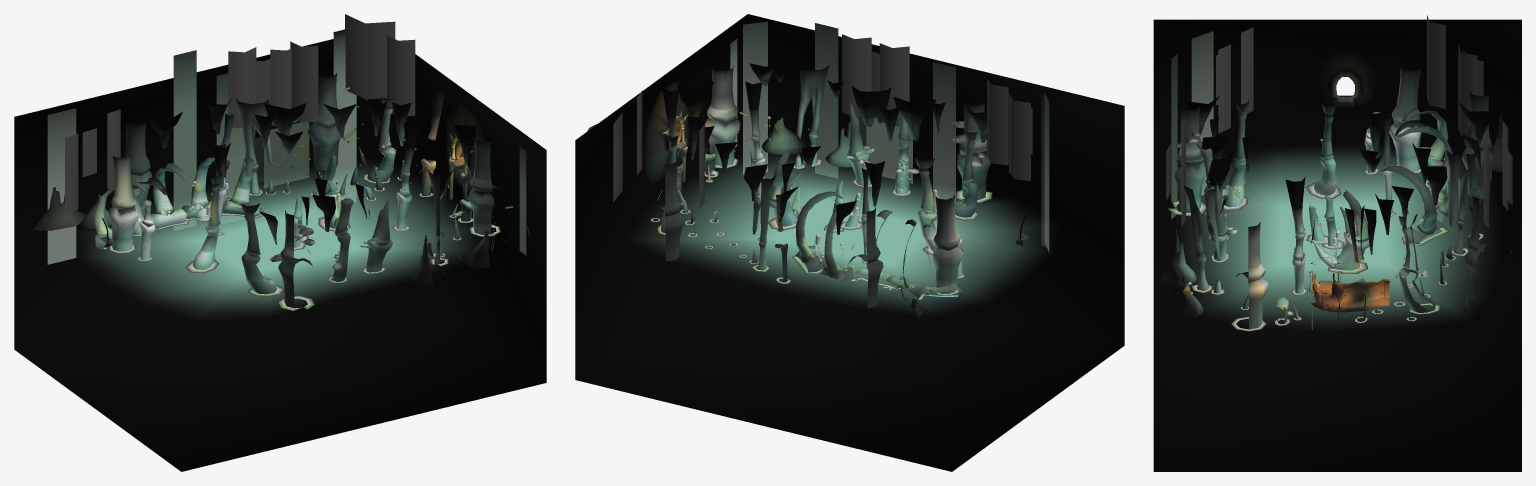
The model's file is 05CavernA.gltf.
The picture shows the model from 3 angles, left to right: view 1: azimuth 30°, elevation 25°; view 2: azimuth 150°, elevation 25°; view 3: azimuth 270°, elevation 25°; orthographic projection. The views are drawn at different scales.
Parts seen in each view (by area): view 1: stg040_o17_Mesh_0000, stg040_p17_Mesh_0002, stg040_w17_Mesh_0000, stg040_o17_Mesh_0001, stg040_o17_Mesh_0005, stg040_a17_Mesh_0000, stg040_o17_Mesh_0004, stg040_ripple_k_17_Mesh_0000, stg040_o17_Mesh_0008, stg040_o17_Mesh_0003; view 2: stg040_o17_Mesh_0000, stg040_w17_Mesh_0000, stg040_p17_Mesh_0002, stg040_o17_Mesh_0001, stg040_o17_Mesh_0005, stg040_a17_Mesh_0000, stg040_o17_Mesh_0004, stg040_o17_Mesh_0008, stg040_ripple_k_17_Mesh_0000, stg040_o17_Mesh_0007; view 3: stg040_o17_Mesh_0000, stg040_w17_Mesh_0000, stg040_o17_Mesh_0001, stg040_p17_Mesh_0002, stg040_o17_Mesh_0005, stg040_o17_Mesh_0008, stg040_o17_Mesh_0004, stg040_a17_Mesh_0000, stg040_ripple_k_17_Mesh_0000, stg040_o17_Mesh_0009, stg040_p17_Mesh_0001, stg040_o17_Mesh_0003.
Boxes of the visible parts, x1,y1,x2,y2 form: stg040_o17_Mesh_0000: (14,39,546,471); stg040_p17_Mesh_0002: (47,14,526,264); stg040_w17_Mesh_0000: (91,166,472,312); stg040_o17_Mesh_0001: (94,72,498,299); stg040_o17_Mesh_0005: (33,98,490,284); stg040_a17_Mesh_0000: (112,132,492,300); stg040_o17_Mesh_0004: (112,143,492,308); stg040_ripple_k_17_Mesh_0000: (103,174,500,311); stg040_o17_Mesh_0008: (97,101,491,248); stg040_o17_Mesh_0003: (285,148,459,239); stg040_o17_Mesh_0000: (575,14,1124,471); stg040_w17_Mesh_0000: (646,157,1038,309); stg040_p17_Mesh_0002: (613,21,1049,252); stg040_o17_Mesh_0001: (661,65,990,308); stg040_o17_Mesh_0005: (677,61,986,322); stg040_a17_Mesh_0000: (665,96,986,299); stg040_o17_Mesh_0004: (665,104,986,308); stg040_o17_Mesh_0008: (587,80,1031,246); stg040_ripple_k_17_Mesh_0000: (650,158,992,300); stg040_o17_Mesh_0007: (709,121,985,174); stg040_o17_Mesh_0000: (1153,19,1521,471); stg040_w17_Mesh_0000: (1189,152,1483,322); stg040_o17_Mesh_0001: (1174,65,1493,329); stg040_p17_Mesh_0002: (1166,15,1512,228); stg040_o17_Mesh_0005: (1159,96,1502,317); stg040_o17_Mesh_0008: (1312,53,1390,312); stg040_o17_Mesh_0004: (1177,120,1489,329); stg040_a17_Mesh_0000: (1176,108,1489,321); stg040_ripple_k_17_Mesh_0000: (1167,164,1483,331); stg040_o17_Mesh_0009: (1311,96,1389,312); stg040_p17_Mesh_0001: (1222,157,1447,293); stg040_o17_Mesh_0003: (1243,251,1467,319).
Bounding box in the file's own units: 264 × 157 × 183.
